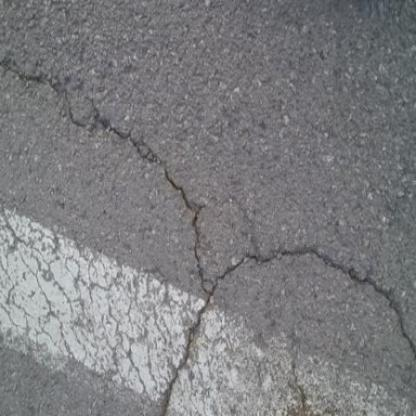Cracks: (0, 55, 214, 291), (157, 239, 415, 415)
